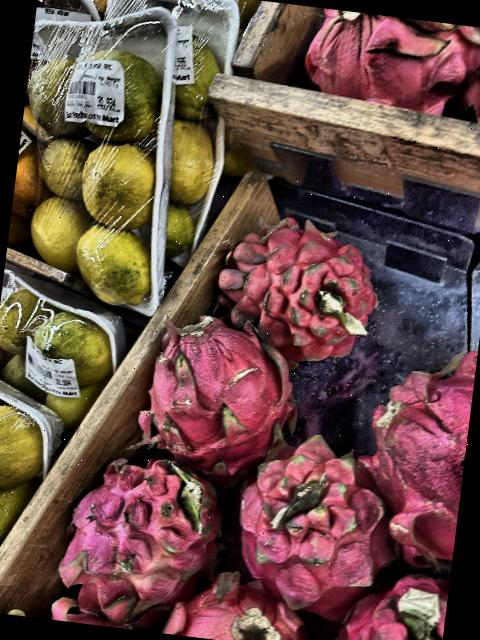buah-naga-matang: (220, 410, 408, 616), (132, 307, 312, 482), (57, 446, 232, 620), (349, 341, 477, 567), (214, 208, 382, 370), (297, 6, 480, 119), (168, 564, 309, 640), (330, 564, 450, 640)
